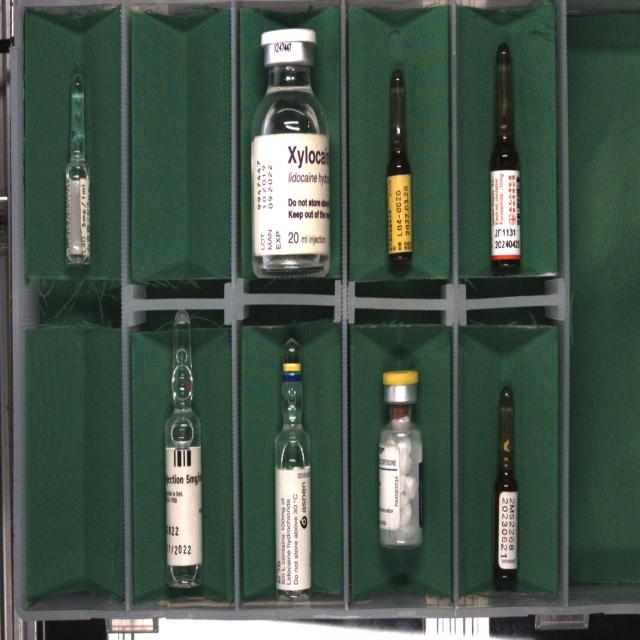Vials: (251, 28, 330, 278), (379, 370, 422, 548)
